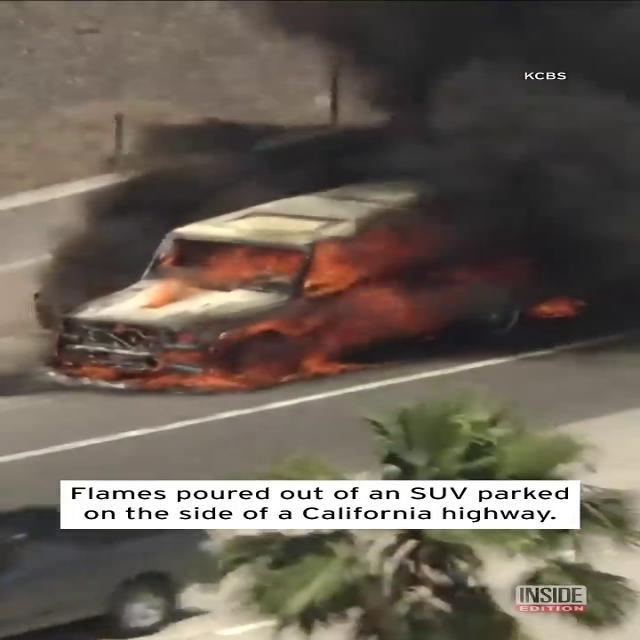Fire: (185, 234, 384, 301)
Smoke: (2, 0, 640, 288)
